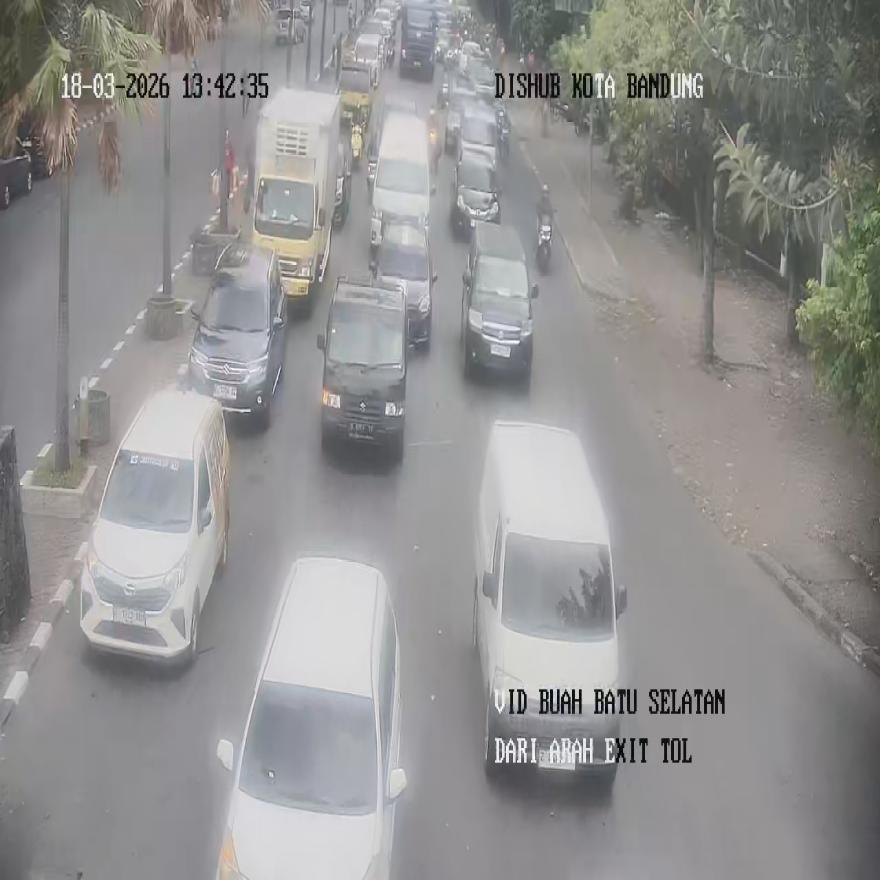Mobil: (214, 556, 405, 879), (473, 418, 626, 785), (80, 385, 229, 661), (187, 243, 286, 427), (316, 271, 409, 461), (461, 219, 538, 385), (368, 106, 434, 253), (370, 215, 436, 345)
Motor: (536, 213, 552, 270), (495, 106, 509, 160)
Truk ringan: (250, 88, 343, 304)
